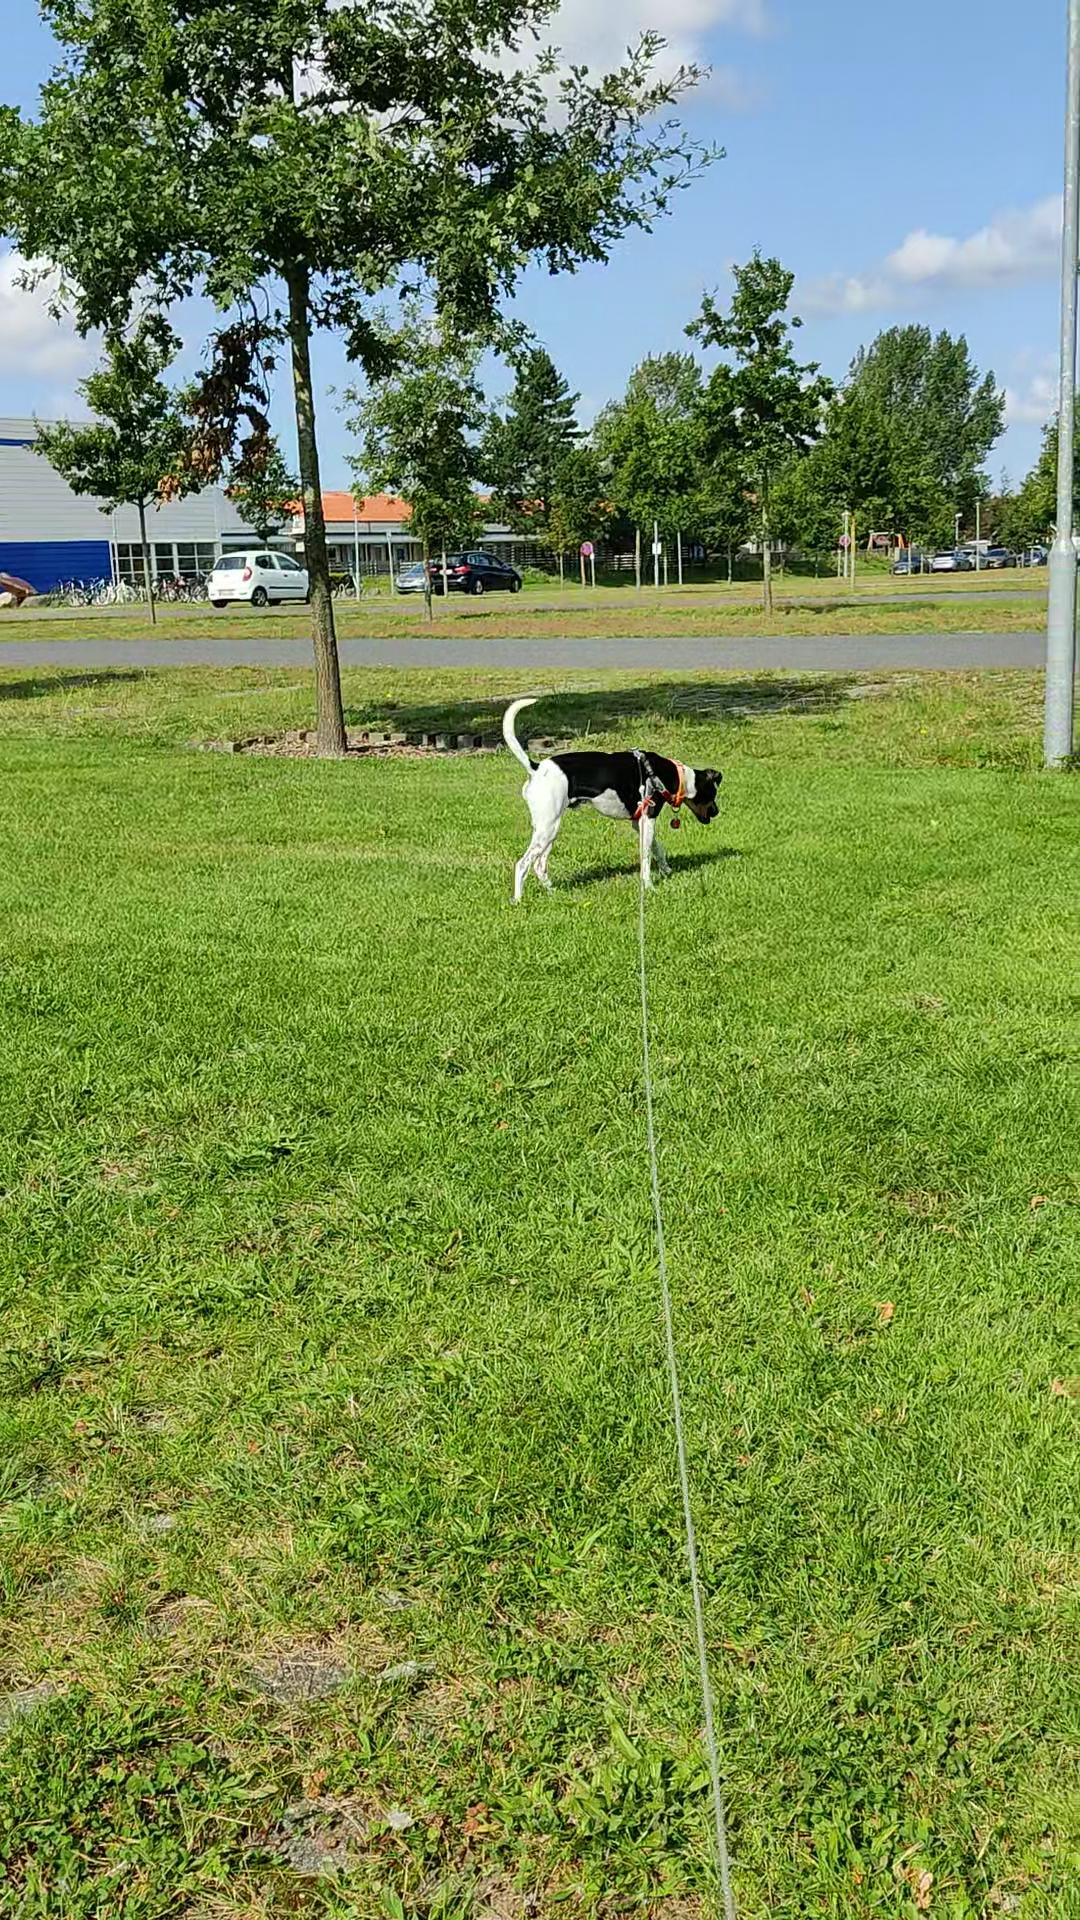Dog: (493, 698, 733, 909)
